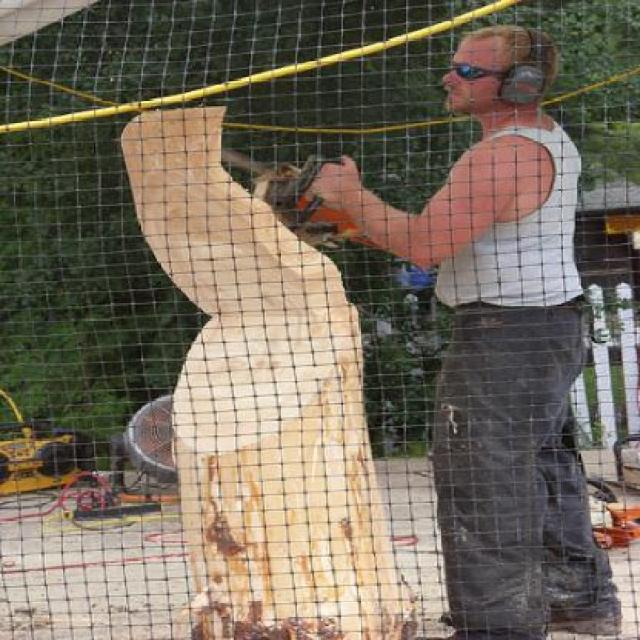Chainsaw: (223, 145, 363, 249)
